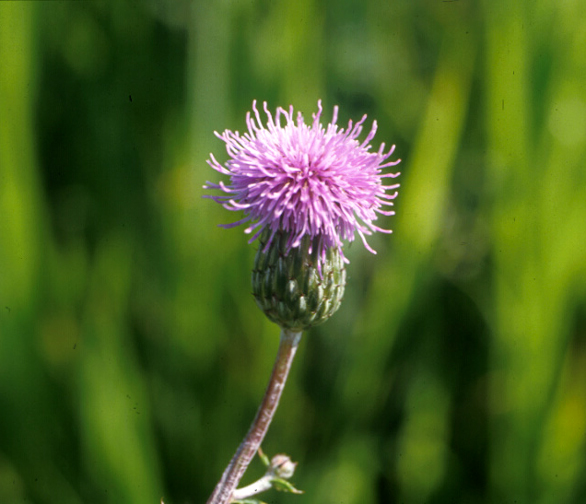thistle: (196, 106, 404, 333)
